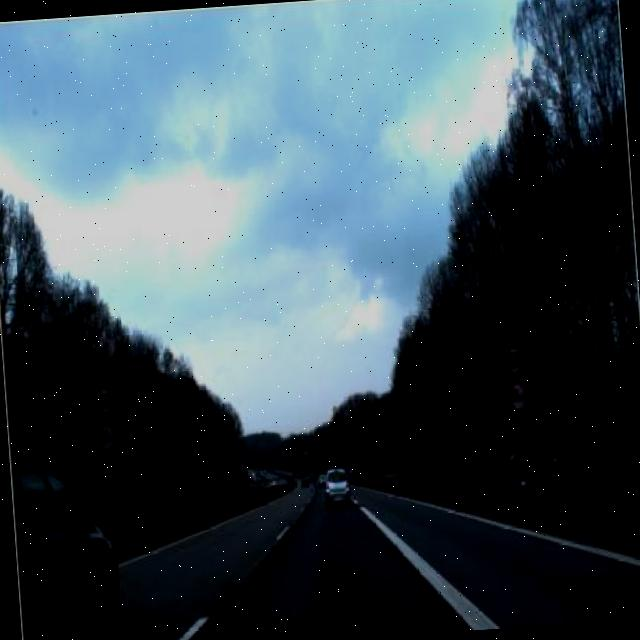Ograniczenie predkosci do 120: (497, 336, 529, 379), (92, 378, 115, 419)
Zakaz wyprzedzania: (91, 419, 123, 459), (504, 378, 530, 418)
